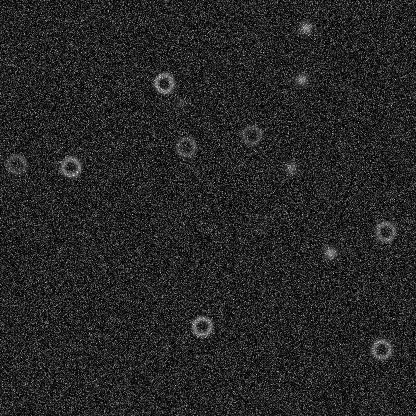Ring: (173, 134, 197, 158), (239, 122, 263, 146), (245, 210, 269, 234), (151, 71, 175, 95), (369, 337, 393, 361), (107, 383, 131, 407), (4, 151, 28, 175), (189, 314, 213, 338), (373, 219, 397, 243), (58, 154, 82, 178)
Spot: (322, 244, 338, 260), (314, 179, 330, 195), (297, 19, 313, 35), (293, 71, 309, 87), (172, 95, 188, 111), (282, 159, 298, 175)
